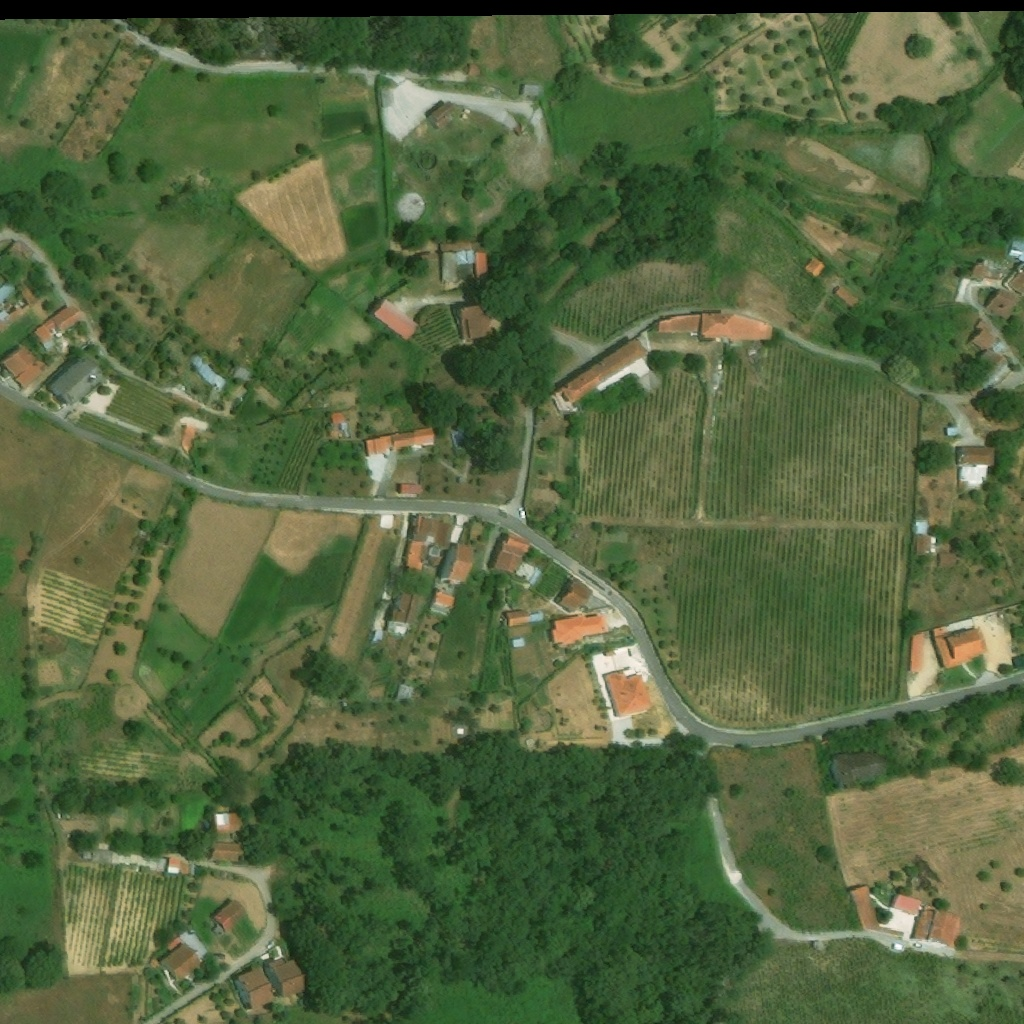0 no-damage: (554, 335, 649, 405), (0, 282, 60, 357), (401, 513, 470, 572), (653, 312, 775, 341), (45, 355, 106, 408), (847, 885, 903, 938), (156, 929, 207, 985), (601, 666, 653, 719), (930, 626, 989, 669), (363, 299, 418, 342), (263, 946, 307, 999), (434, 243, 488, 285), (831, 749, 889, 787), (364, 427, 435, 458), (0, 344, 45, 390), (231, 966, 276, 1011), (451, 302, 498, 345), (30, 308, 81, 347), (424, 102, 488, 133), (486, 532, 532, 574), (186, 352, 227, 393), (956, 445, 997, 486), (439, 542, 474, 588), (552, 578, 593, 614), (969, 257, 1010, 292), (386, 588, 415, 636), (927, 911, 960, 949), (209, 900, 245, 931), (985, 289, 1018, 320), (912, 520, 937, 556), (1000, 262, 1023, 300), (967, 319, 997, 348), (909, 909, 934, 940), (595, 605, 626, 629), (504, 608, 543, 627), (890, 894, 923, 916), (428, 591, 455, 616), (165, 857, 198, 877), (908, 633, 924, 674), (209, 843, 244, 861), (831, 286, 858, 309), (214, 813, 242, 833), (329, 412, 347, 439), (181, 424, 196, 455), (802, 259, 825, 278), (519, 84, 544, 99), (0, 281, 15, 305), (938, 549, 957, 567), (392, 686, 413, 701), (395, 484, 424, 494), (565, 613, 588, 625), (234, 369, 250, 383), (584, 630, 598, 641), (946, 427, 959, 435)
4 un-classified: (1007, 239, 1023, 263), (76, 335, 90, 348)
